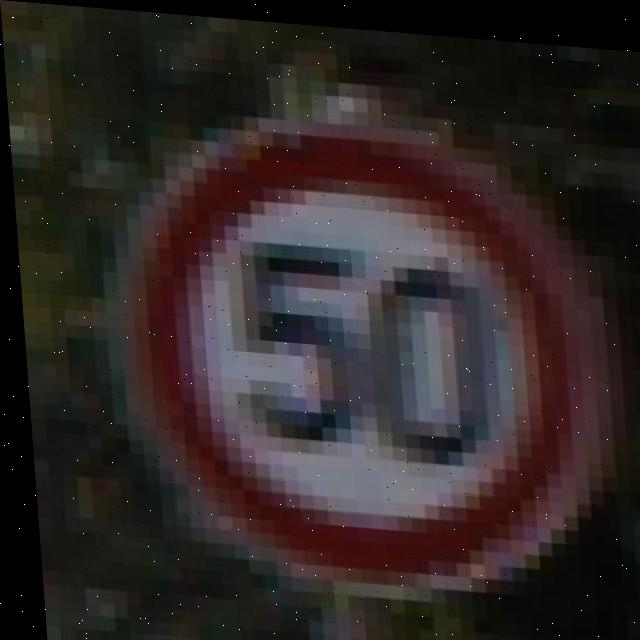Speed limit 50: (113, 100, 621, 598)
